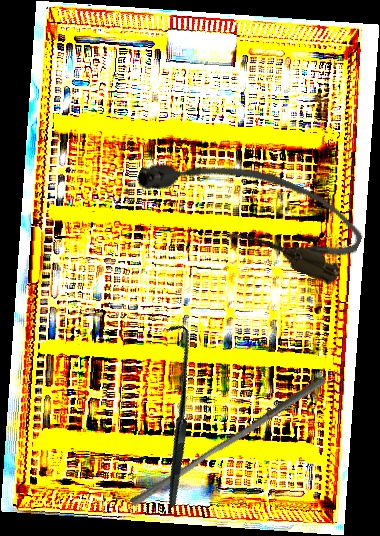Cannula: (129, 124, 371, 290)
Hook Surgical: (80, 320, 269, 508)
Pusher: (129, 367, 328, 515)
